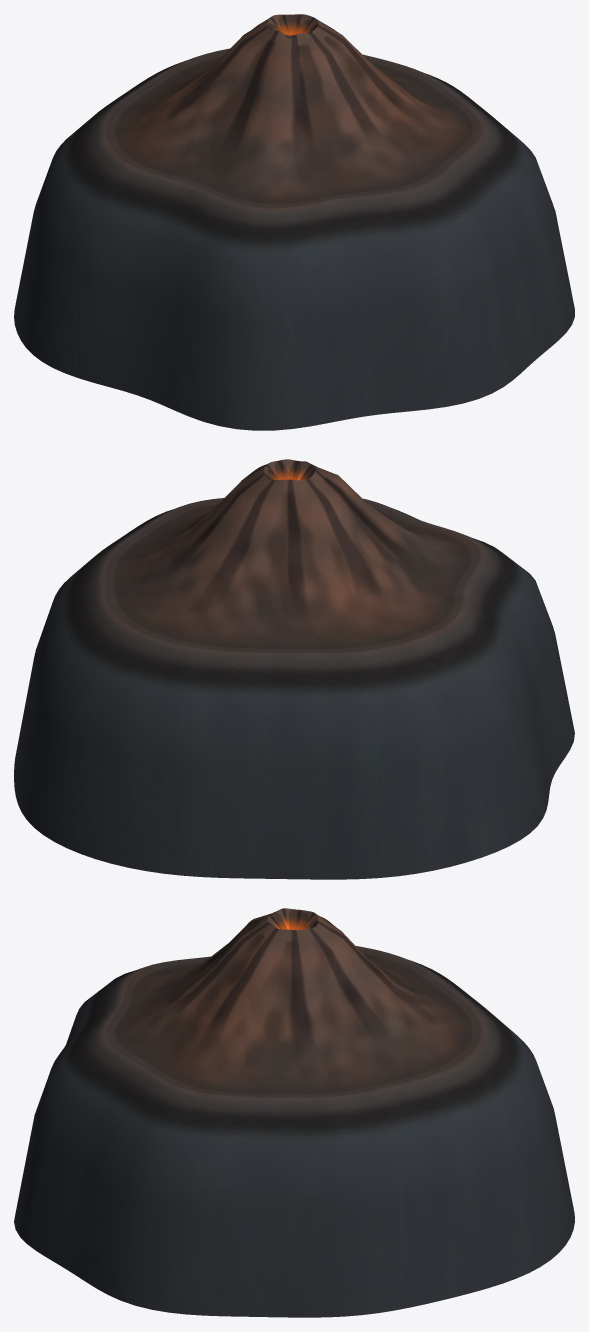
The model's file is volcanic_0.glb.
3 renders of one model, top to bottom at view 1: azimuth 30°, elevation 25°; view 2: azimuth 150°, elevation 25°; view 3: azimuth 270°, elevation 25°, orthographic. The views are drawn at different scales.
Visible parts, largest first — view 1: volcanic_0; view 2: volcanic_0; view 3: volcanic_0.
Boxes of the visible parts, left/top/right/bottom form: volcanic_0: left=14, top=14, right=574, bottom=430; volcanic_0: left=14, top=459, right=574, bottom=879; volcanic_0: left=14, top=908, right=574, bottom=1317.
Size of the model in its own units: 30.94 by 18.08 by 31.92.
1 material, 1 textured.
